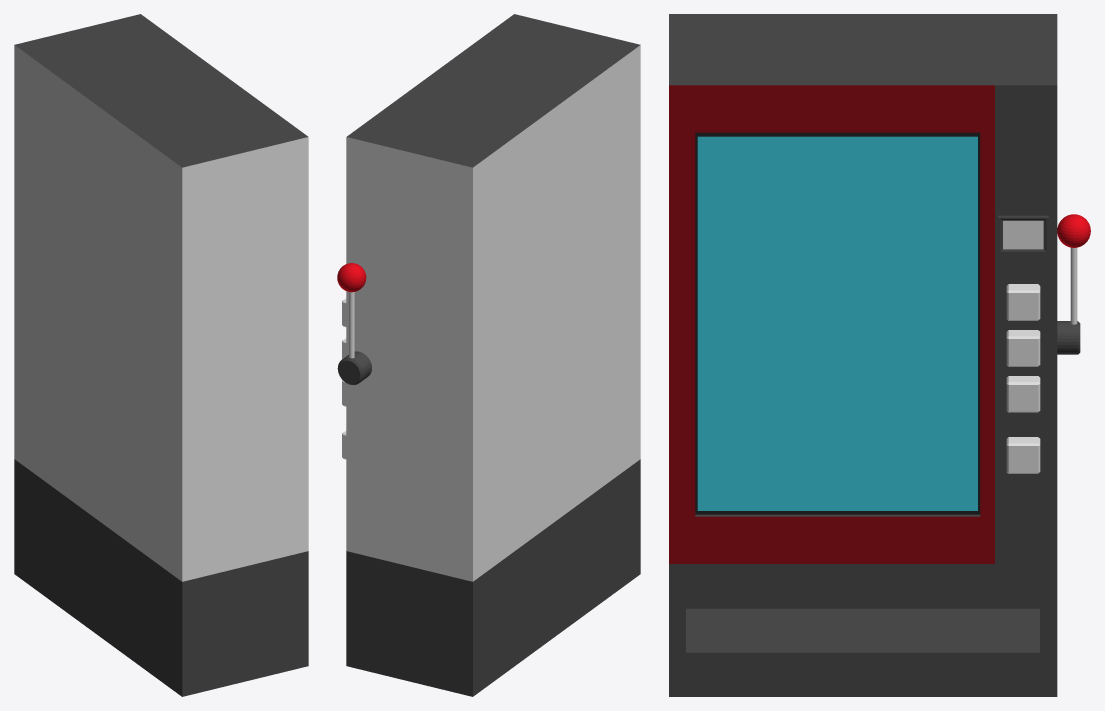
File: Automat.fbx
3 renders of one model, left to right at view 1: azimuth 30°, elevation 25°; view 2: azimuth 150°, elevation 25°; view 3: azimuth 270°, elevation 25°, orthographic. The views are drawn at different scales.
Parts seen in each view (by area): view 1: automat; view 2: automat, Cylinder.001, Sphere; view 3: automat, glas, Display, Button3, Button1, Button2, ClearButton, Sphere, Cylinder.001.
Boxes of the visible parts, x1,y1,x2,y2 form: automat: (14,14,308,696); automat: (346,14,640,696); Cylinder.001: (337,351,371,384); Sphere: (337,263,366,292); automat: (669,14,1057,696); glas: (695,132,980,514); Display: (998,215,1048,252); Button3: (1006,376,1040,412); Button1: (1006,284,1040,320); Button2: (1006,330,1040,366); ClearButton: (1006,437,1040,473); Sphere: (1057,214,1090,247); Cylinder.001: (1057,321,1080,354).
Bounding box in the file's own units: 55 × 200 × 125.
